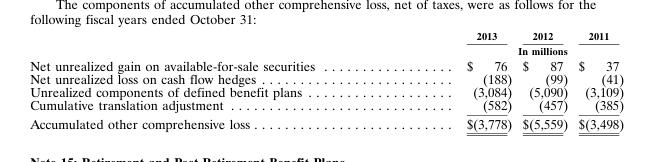table: (29, 29, 623, 131)
table column: (29, 29, 389, 131), (389, 29, 516, 131), (516, 29, 572, 131), (572, 29, 623, 131)
table column header: (29, 29, 623, 57)
table row: (29, 113, 623, 131), (29, 42, 623, 57), (29, 98, 623, 113), (29, 57, 623, 71), (29, 71, 623, 85), (29, 29, 623, 42), (29, 85, 623, 98)
table spanning cell: (389, 42, 623, 57)
